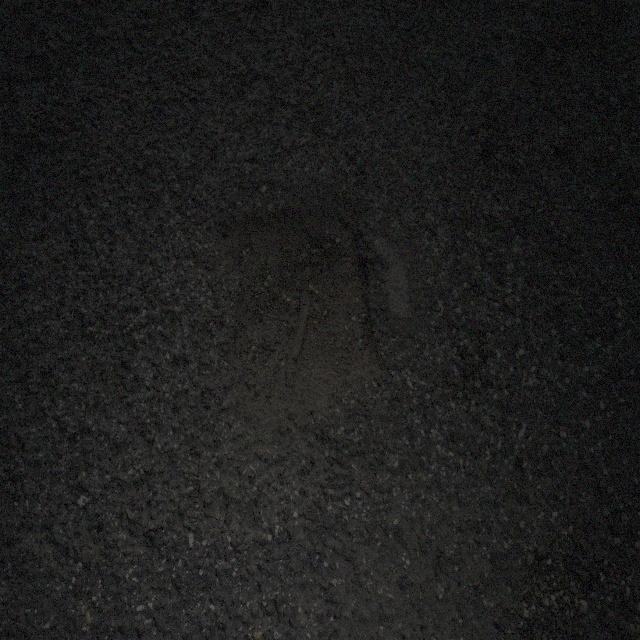pothole: (218, 177, 388, 437)
